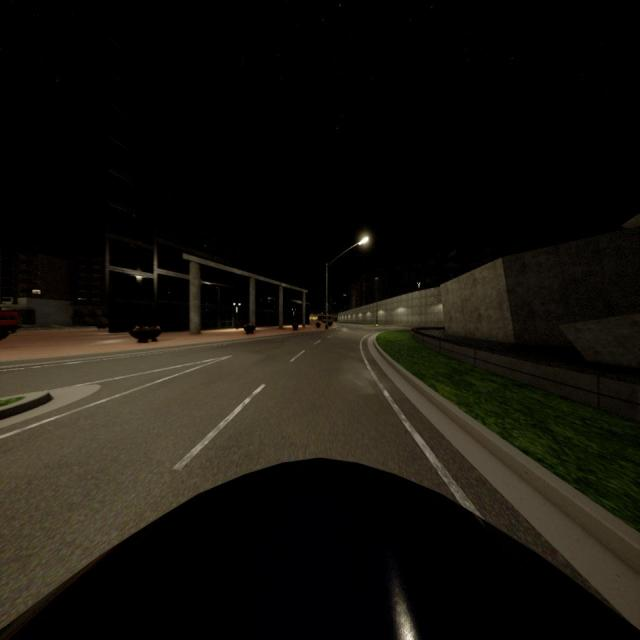Vehicle: (0, 456, 640, 640), (0, 297, 17, 333), (318, 315, 332, 326)
